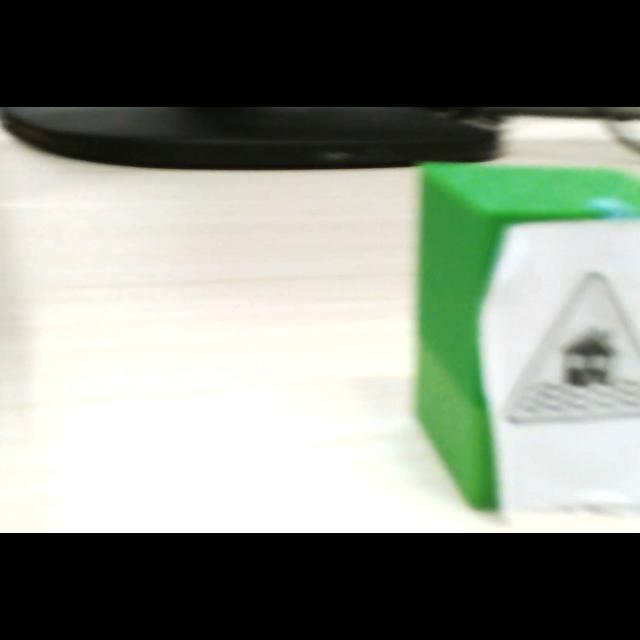Tsunami: (505, 272, 640, 425)
